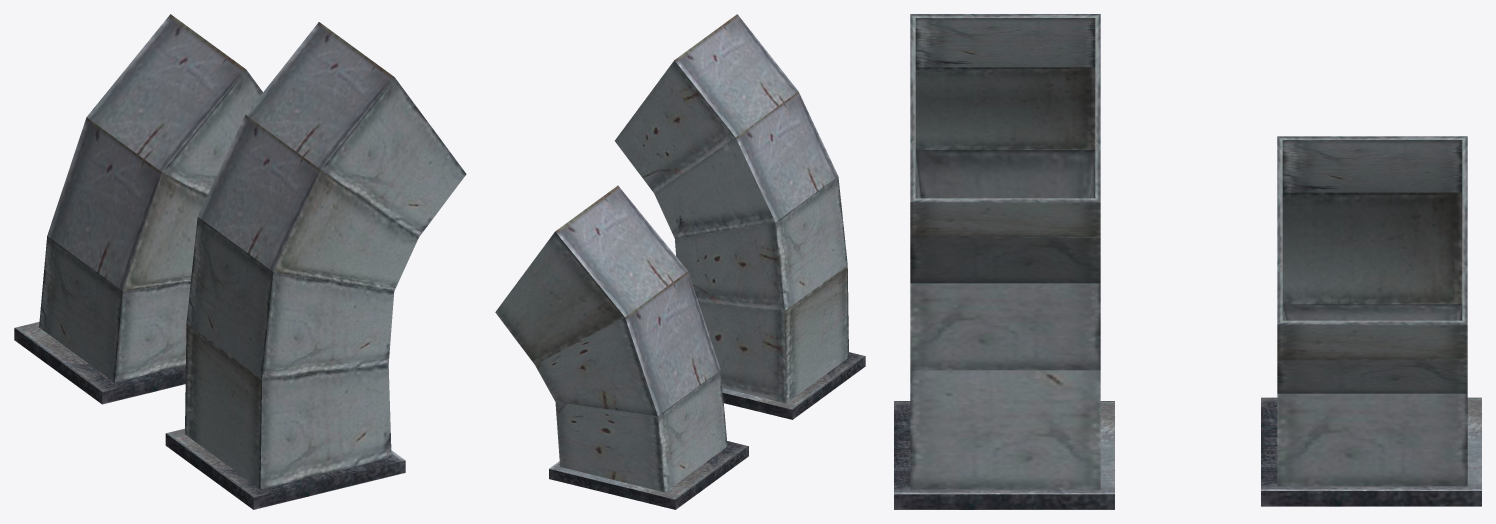
File: Airvent_set1.fbx
The picture shows the model from 3 angles, left to right: view 1: azimuth 30°, elevation 25°; view 2: azimuth 150°, elevation 25°; view 3: azimuth 270°, elevation 25°; orthographic projection. The views are drawn at different scales.
Visible parts, largest first — view 1: Airvent_set1; view 2: Airvent_set1; view 3: Airvent_set1.
Part boxes in pixels (x1,y1,x2,y2): Airvent_set1: (14,14,466,509); Airvent_set1: (495,14,865,509); Airvent_set1: (894,14,1481,509).
Size of the model in its own units: 140 by 234 by 252.
